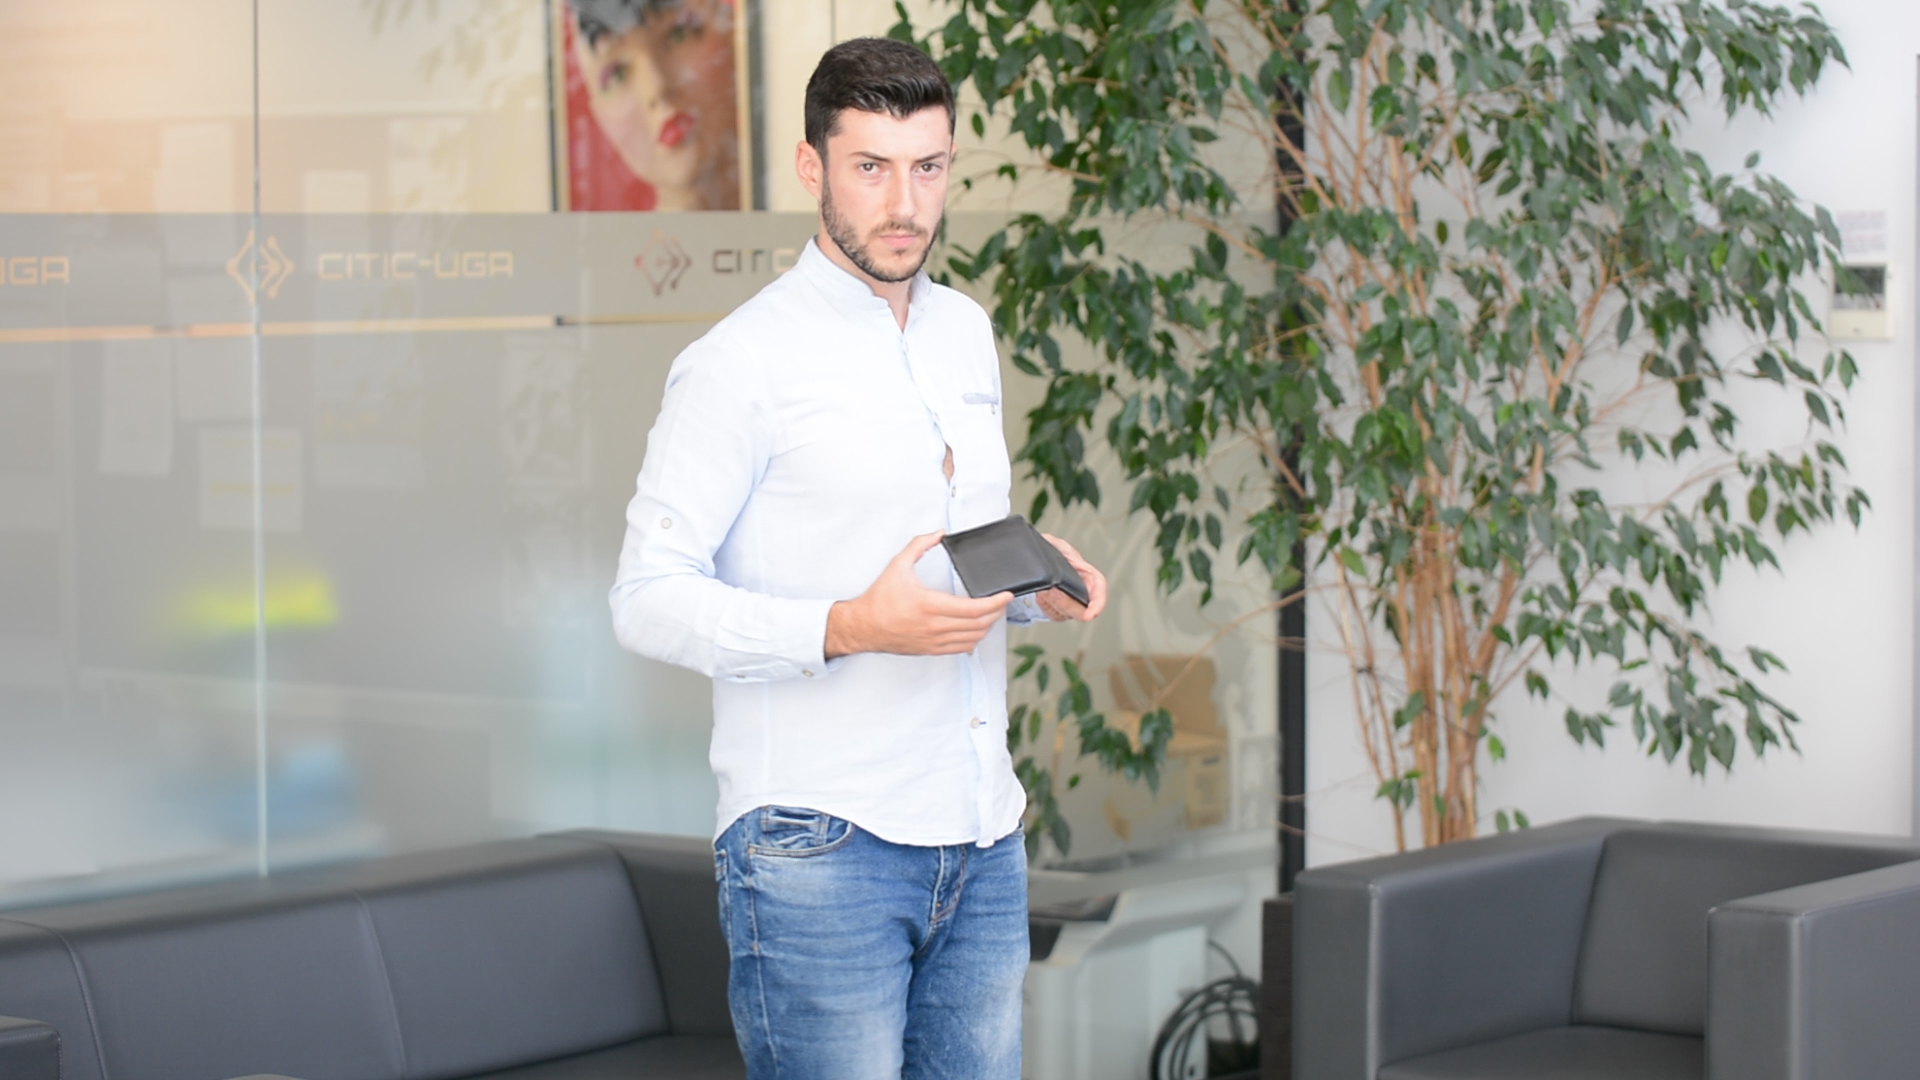monedero: (939, 514, 1095, 608)
